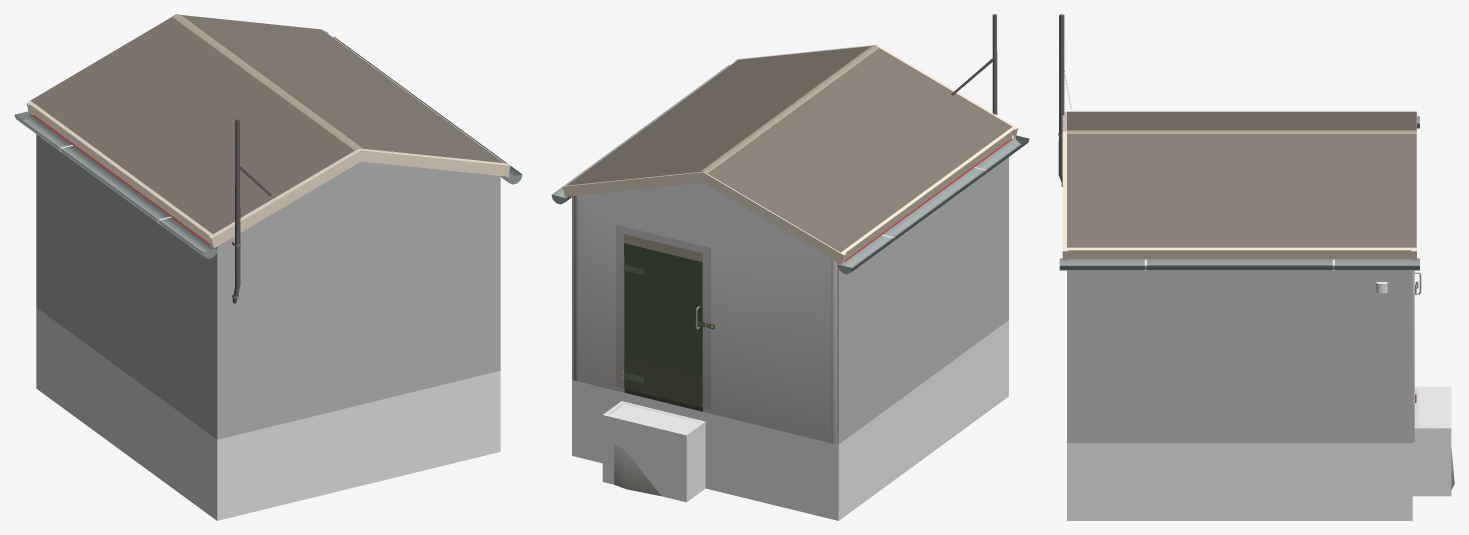
File: eca_bld_fv_storage.DAE
3 renders of one model, left to right at view 1: azimuth 30°, elevation 25°; view 2: azimuth 150°, elevation 25°; view 3: azimuth 270°, elevation 25°, orthographic. The views are drawn at different scales.
Parts seen in each view (by area): view 1: Colmesh-1, eca_bld_fv_storage200; view 2: eca_bld_fv_storage200, Colmesh-1; view 3: Colmesh-1, eca_bld_fv_storage200.
Boxes of the visible parts, x1,y1,x2,y2 form: Colmesh-1: (36,134,500,520); eca_bld_fv_storage200: (14,14,522,303); eca_bld_fv_storage200: (551,14,1029,496); Colmesh-1: (572,157,1008,520); Colmesh-1: (1067,270,1451,520); eca_bld_fv_storage200: (1058,14,1454,490).
Size of the model in its own units: 4.1 by 4.6 by 4.89.
